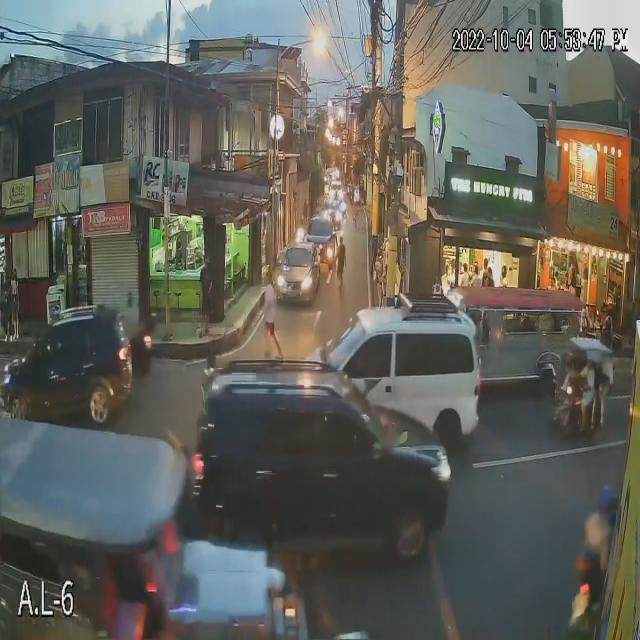helmet: (595, 479, 620, 516)
motorcycle: (570, 549, 604, 637)
rider: (580, 508, 609, 574)
